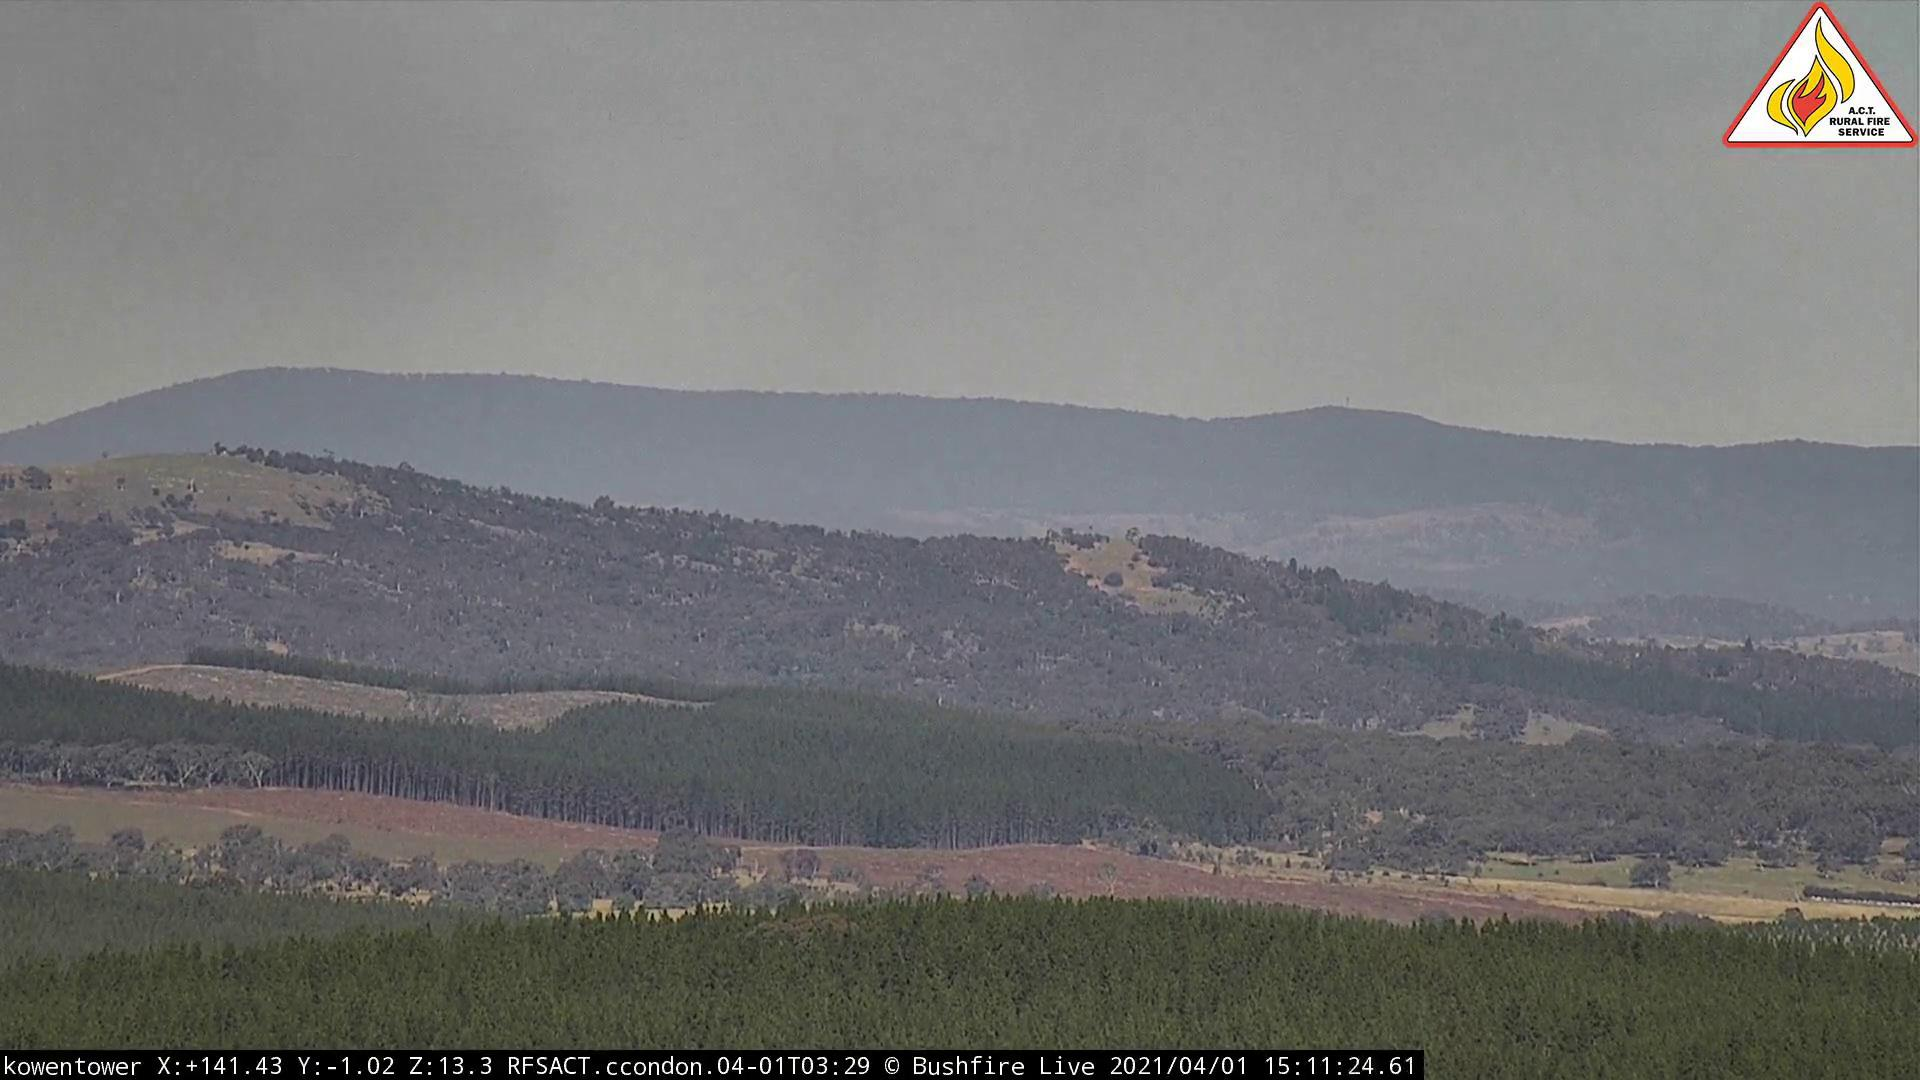Smoke: (3, 3, 640, 444)
